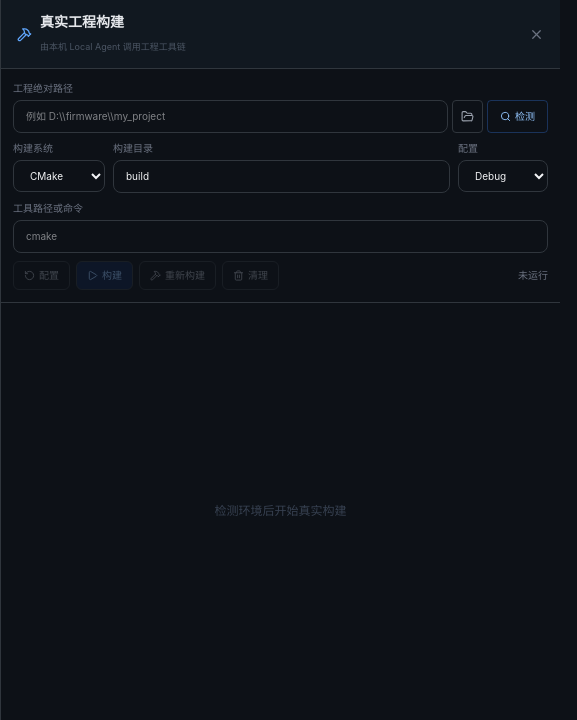
Test: ProjectBuildPanel capability-gated workflow › detects a CMake project and starts a real build job through the service
Type "D:\\firmware\\demo" into the field with placeholder "例如 D:\\\\firmware\\\\my_project".
click(230, 116); type("D:\\firmware\\demo")  # box [13, 100, 448, 133]
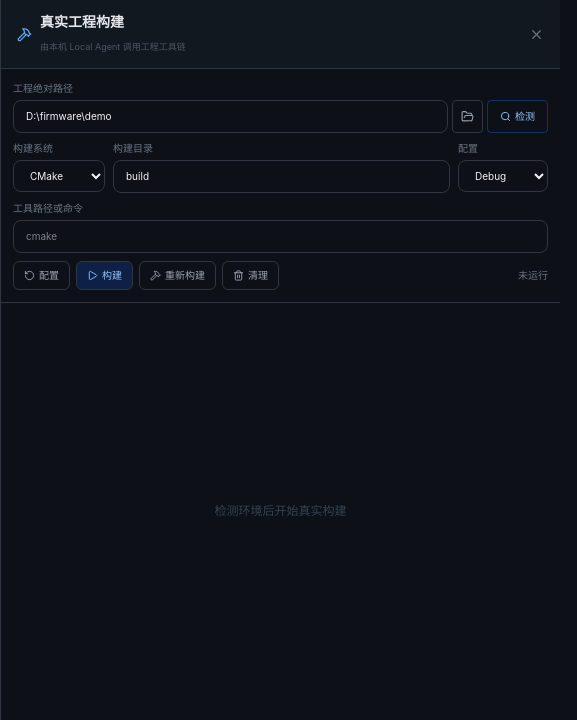
Click the button "检测".
click(518, 116)  # box [487, 100, 548, 133]
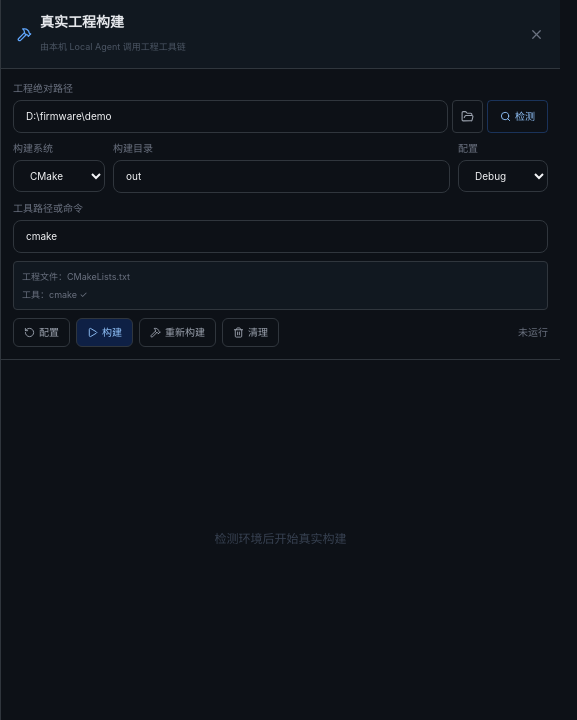
Expected: the text "工程文件：CMakeLists.txt" is shown, [22, 271, 130, 282]
Click the button "构建".
click(104, 332)  # box [76, 318, 133, 347]
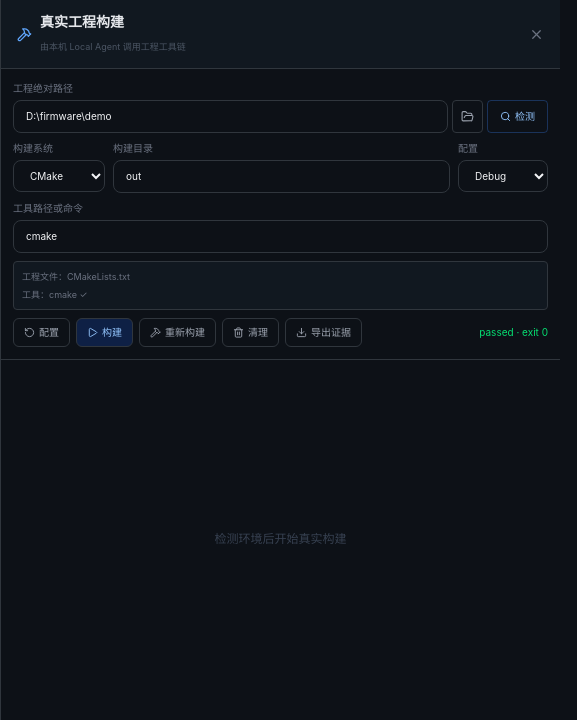
Expected: the button "导出证据" is enabled, [285, 318, 362, 347]
